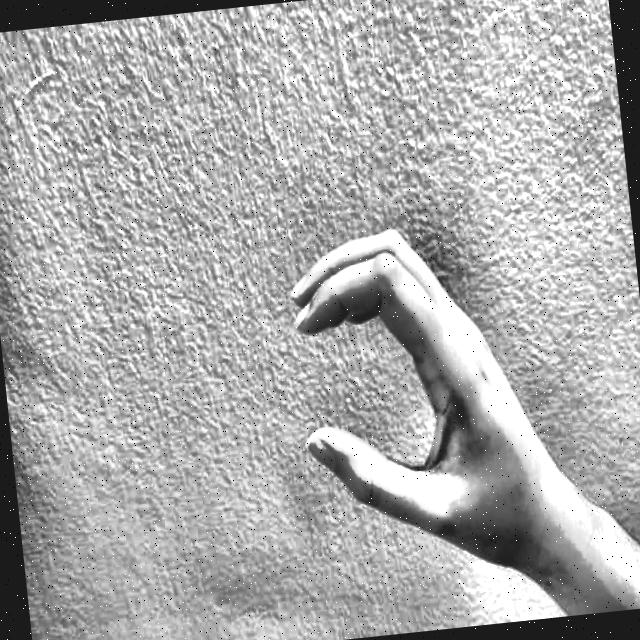A: (252, 190, 526, 607)
